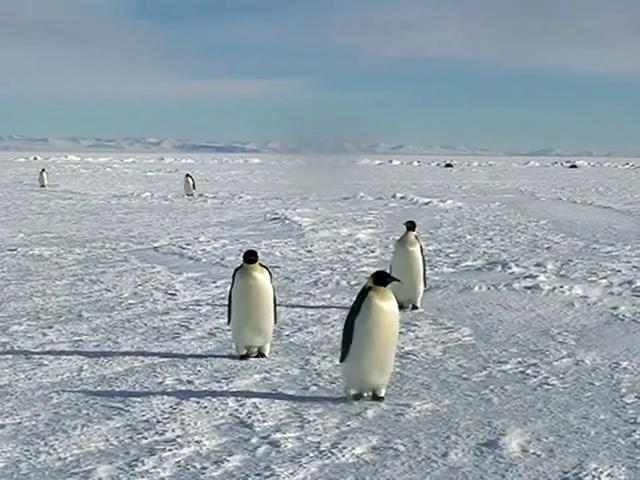animal: (391, 222, 427, 310)
